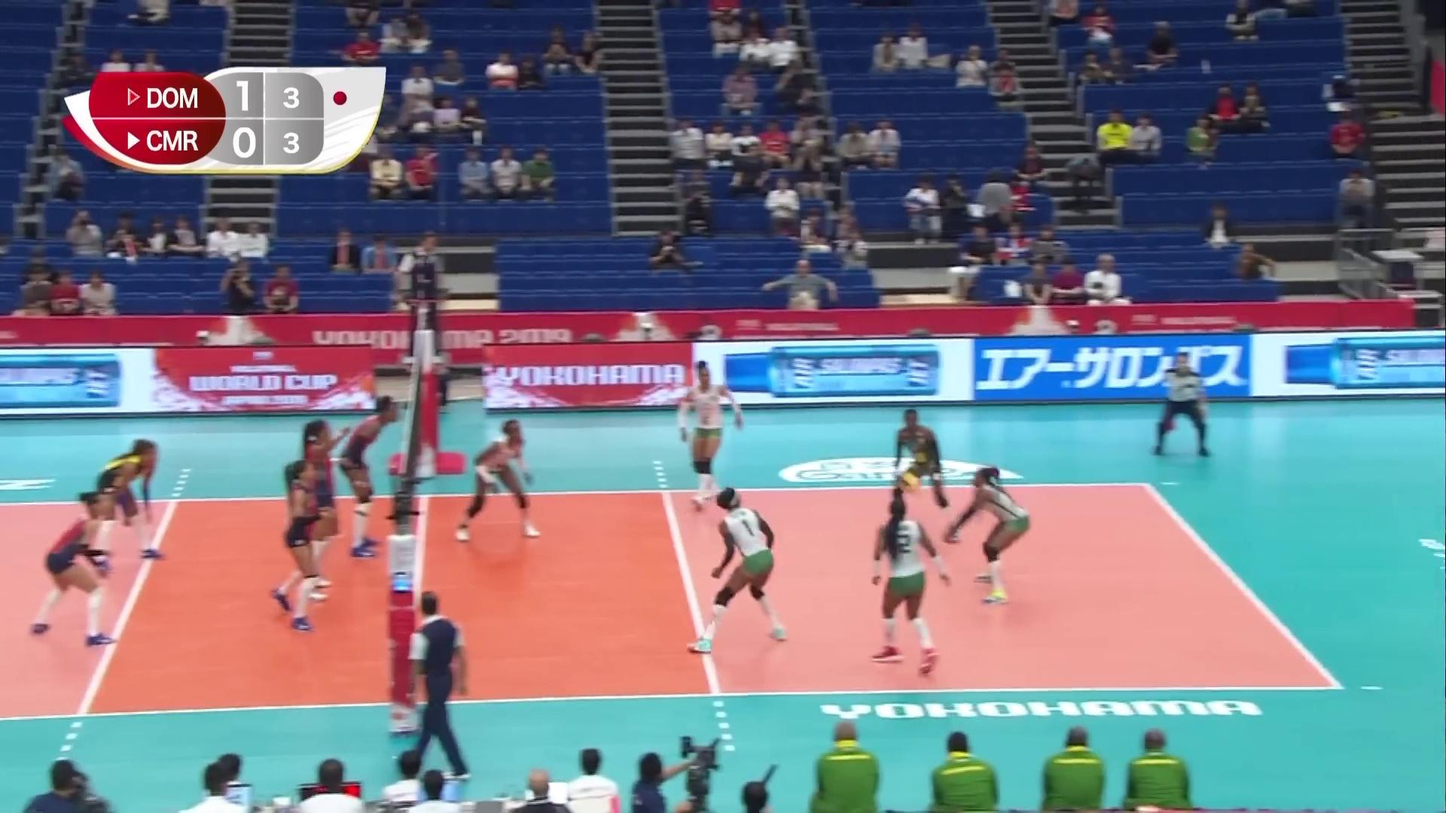player: (702, 493, 799, 653), (864, 500, 944, 669), (33, 491, 121, 644), (945, 469, 1029, 606), (336, 394, 403, 560), (674, 365, 746, 510), (460, 420, 538, 542), (274, 458, 328, 633), (888, 411, 956, 535), (93, 437, 159, 559), (300, 417, 333, 602)
refree: (404, 587, 466, 781), (1151, 357, 1213, 461), (401, 232, 444, 364)
